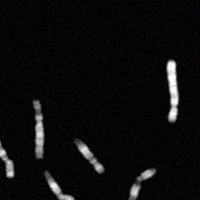chromosome: (73, 137, 104, 174), (43, 170, 74, 200), (128, 168, 156, 200), (167, 60, 178, 121), (0, 130, 14, 177), (34, 99, 44, 159)
